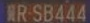R: (17, 4, 27, 22)
